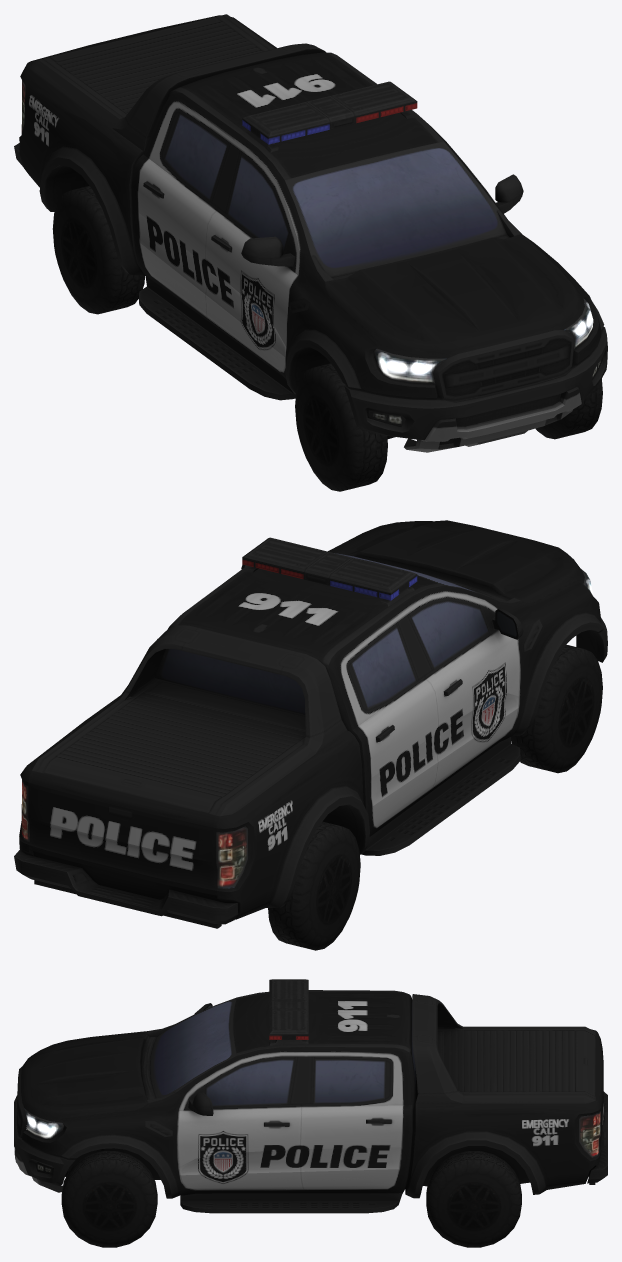
File: ford-ranger-raptor.glb
The picture shows the model from 3 angles, top to bottom: view 1: azimuth 30°, elevation 25°; view 2: azimuth 150°, elevation 25°; view 3: azimuth 270°, elevation 25°; orthographic projection. The views are drawn at different scales.
Visible parts, largest first — view 1: Ford_Raptor_BASE__0; view 2: Ford_Raptor_BASE__0; view 3: Ford_Raptor_BASE__0.
Part boxes in pixels (<box>): Ford_Raptor_BASE__0: <box>14,14,607,491</box>; Ford_Raptor_BASE__0: <box>14,520,607,950</box>; Ford_Raptor_BASE__0: <box>14,979,607,1247</box>.
Bounding box in the file's own units: 83.81 × 75.87 × 207.
1 material, 1 textured.
